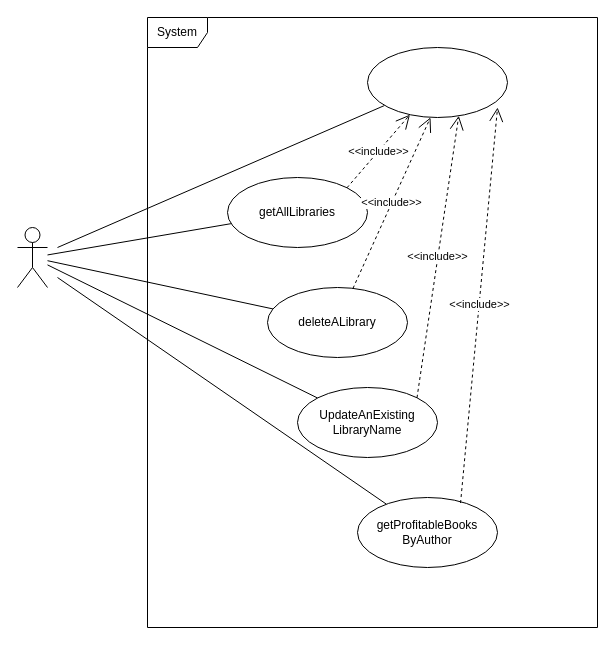
Some shapes in this 615 by 645 pixel diagram are drawn without their labels. Here are the shapes that lost their labels. From the top down, the centre of each, then its label:
At point (437, 82): "addANewLibrary".
At point (32, 257): "User".
